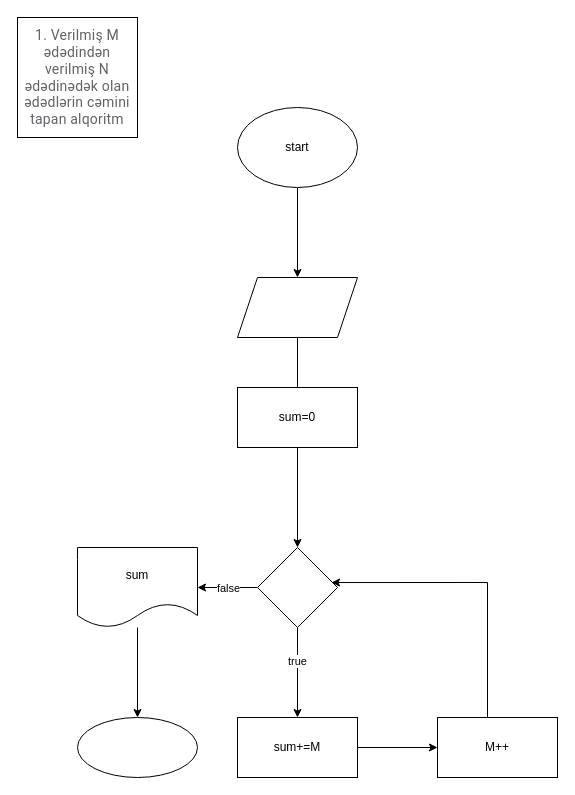
This 575x795 diagram has some shape labels left out. Each missing label, with the centre of its shape:
"end" belongs at point (137, 747).
"M,N" belongs at point (297, 307).
"M>N" belongs at point (297, 587).
